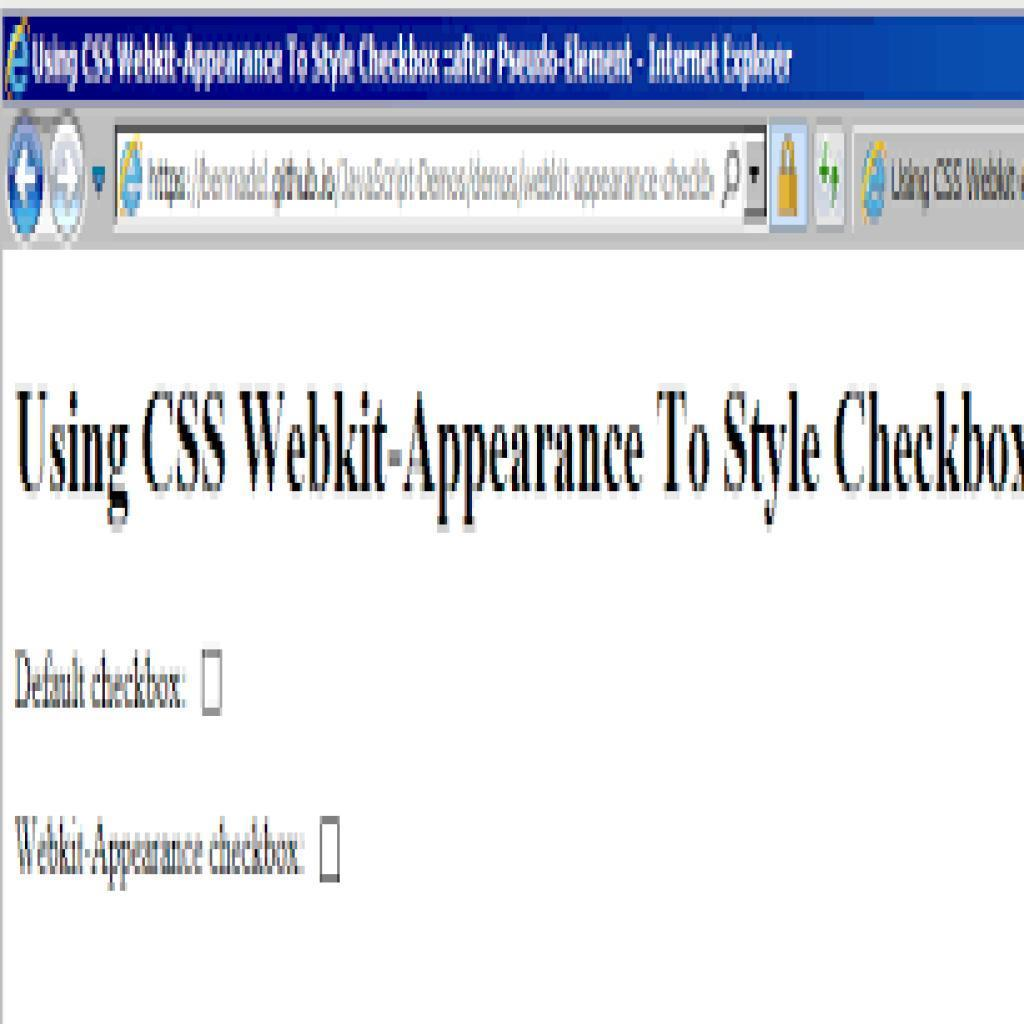checkbox: (199, 645, 228, 721), (318, 814, 345, 889)
icon: (10, 118, 45, 242), (50, 121, 85, 240), (772, 122, 807, 227), (814, 127, 845, 229), (861, 140, 891, 233), (120, 140, 146, 219), (721, 144, 743, 215), (747, 141, 762, 214)
